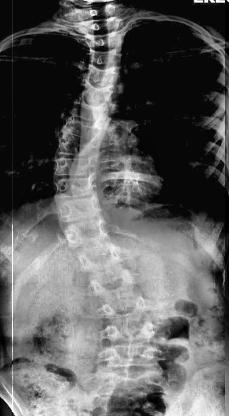Vertebrae: (93, 367, 165, 395), (96, 342, 168, 366), (101, 316, 163, 341), (98, 287, 152, 313), (64, 221, 110, 249), (60, 125, 109, 151), (88, 267, 134, 293), (72, 246, 124, 268), (57, 200, 107, 222), (58, 178, 106, 198), (56, 154, 104, 174), (74, 83, 122, 103), (84, 32, 126, 53), (71, 104, 117, 122), (84, 64, 124, 84), (82, 51, 126, 69)
